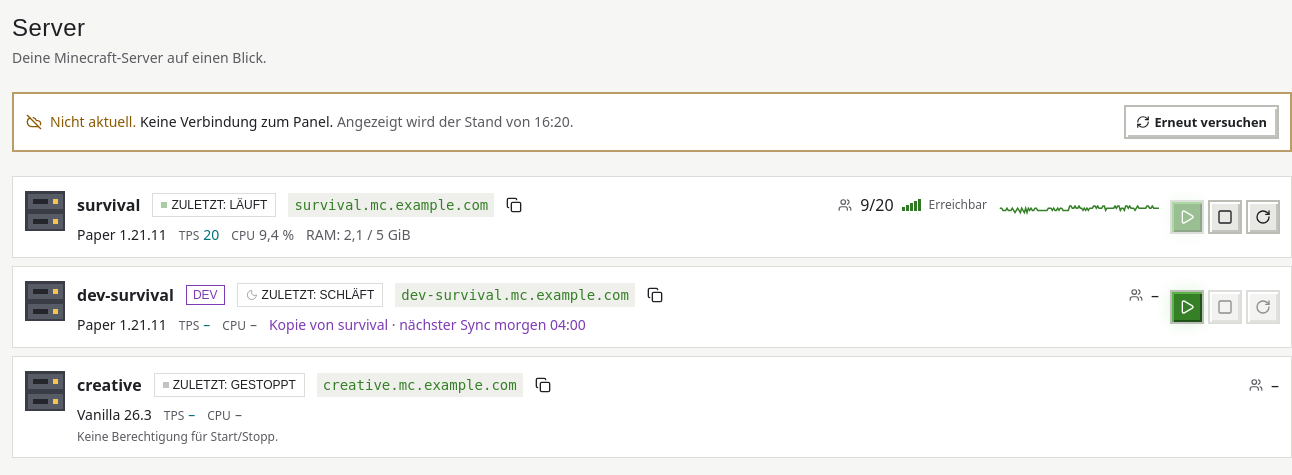
Scenario: DashboardPage › when a refresh fails (issue #155) › keeps the server list, marks it stale with time and retry, and clears that on recovery
Expected: the text "Läuft" is shown, top-left (171, 198), bottom-right (267, 212)
Expected: the message with test id "stale-notice" shows "Keine Verbindung zum Panel.", top-left (140, 112), bottom-right (333, 131)
Click the button "Erneut versuchen": (1202, 122) top-left (1125, 106), bottom-right (1278, 138)
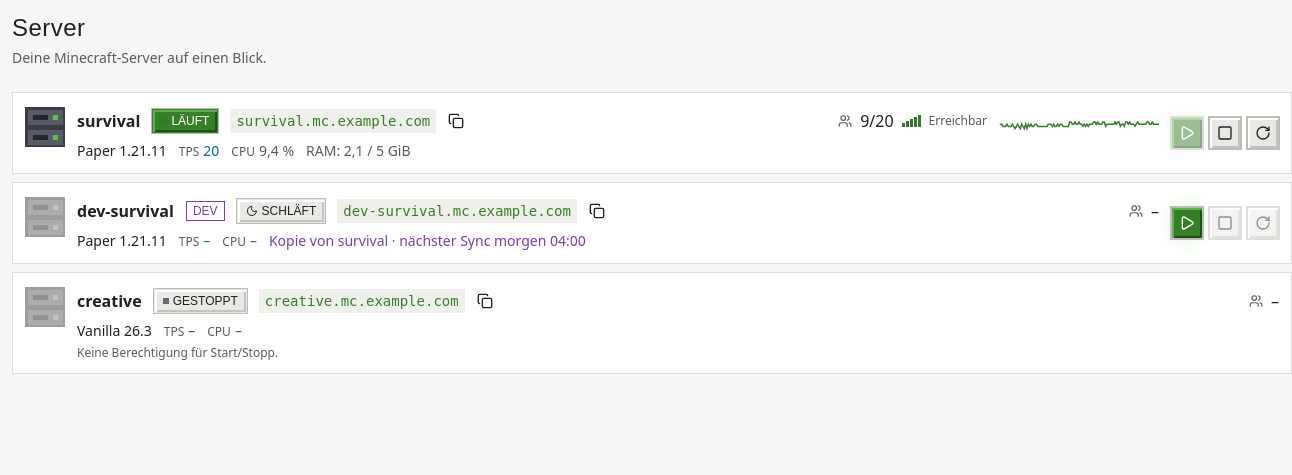
Expected: the text "Läuft" is shown, top-left (152, 109), bottom-right (218, 133)
Expected: the message with test id "stale-notice" is gone
